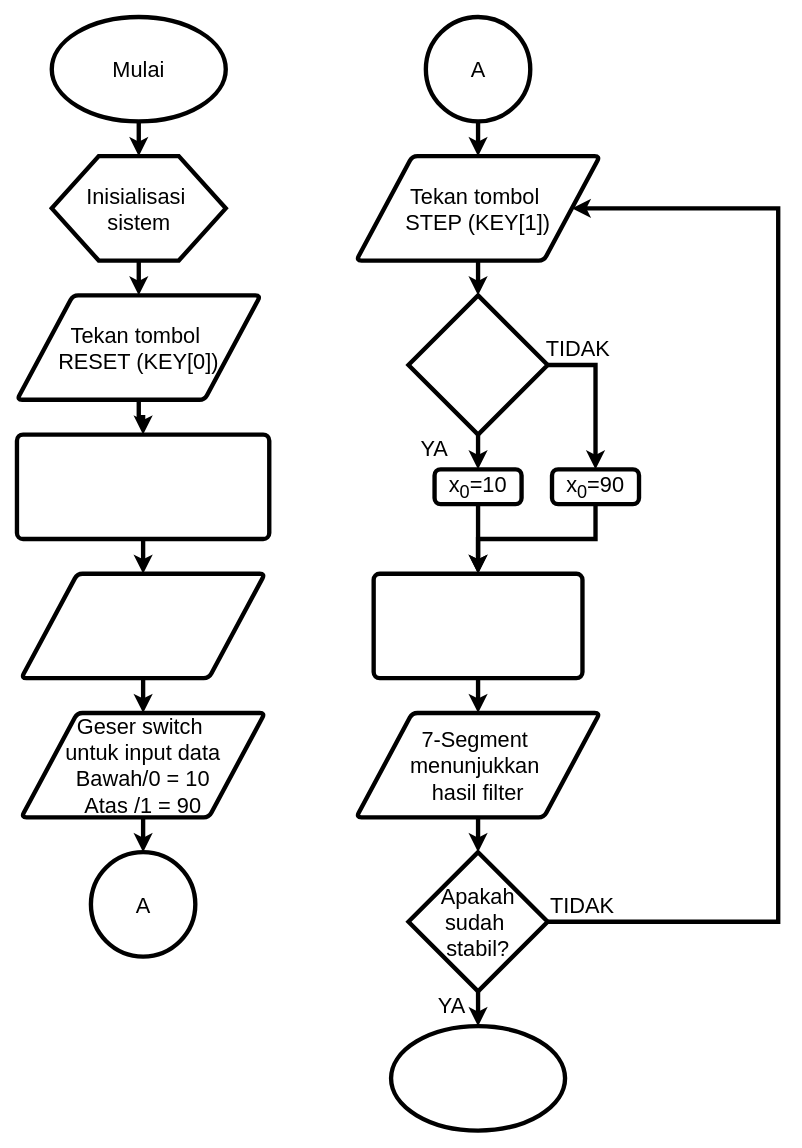
Some shapes in this 802 by 1148 pixel diagram are drawn without their labels. The shapes that lost their labels are listed below. From the top down, each one's centre as x and y in pixels, then its label:
At point (477, 364): "Input data baru 10?".
At point (142, 486): "Sistem merngubah seluruh data menjadi 10, lalu menghitung filter".
At point (143, 625): "7-Segment menunjukkan angka 10".
At point (477, 625): "Data lama digeser Sistem menghitung average array data baru".
At point (477, 1078): "Selesai".
